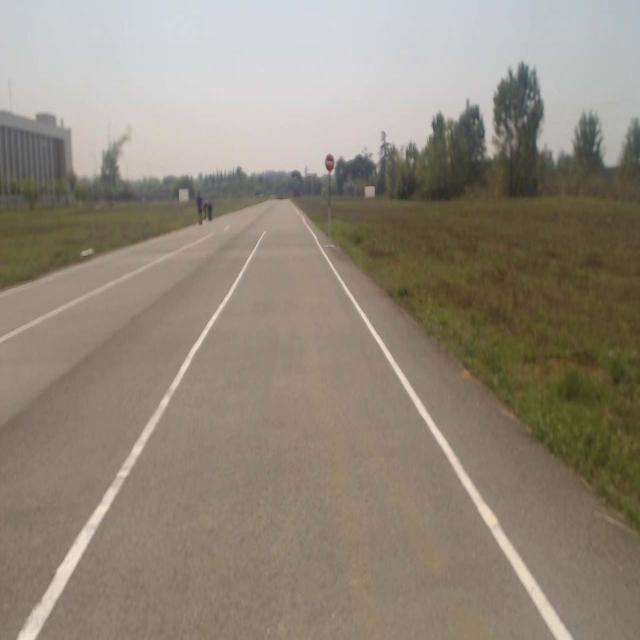girisyok: (325, 154, 334, 172)
